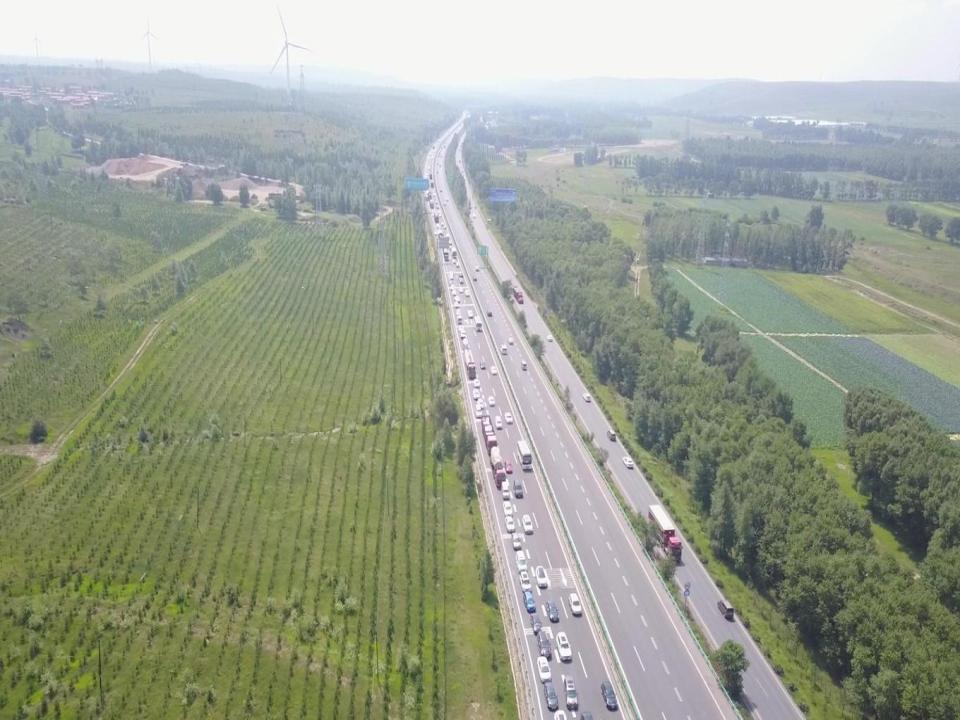bus: (516, 438, 534, 470), (474, 316, 482, 332)
car: (600, 680, 618, 712), (562, 674, 578, 710), (555, 630, 572, 662), (543, 680, 559, 712), (536, 655, 552, 684), (536, 630, 552, 658), (545, 599, 560, 624), (534, 564, 548, 589), (568, 592, 582, 616), (518, 569, 532, 593), (529, 612, 543, 635), (522, 591, 536, 614), (514, 550, 528, 572), (522, 513, 534, 535), (510, 530, 522, 550), (503, 515, 516, 533), (502, 500, 514, 518), (621, 456, 635, 468), (494, 414, 503, 430), (503, 460, 513, 474), (504, 411, 514, 424), (472, 387, 480, 400), (476, 398, 484, 410), (490, 364, 498, 376), (488, 395, 496, 406), (582, 392, 590, 402), (480, 359, 487, 370), (474, 377, 480, 389), (546, 333, 554, 342), (507, 336, 514, 345), (487, 309, 493, 317)
truck: (647, 504, 684, 564), (488, 444, 507, 488), (480, 413, 499, 456), (463, 348, 477, 380), (512, 284, 524, 304)
van: (716, 599, 735, 619), (512, 477, 524, 499), (473, 404, 483, 418), (606, 430, 616, 441), (499, 344, 507, 356), (520, 358, 528, 370)
